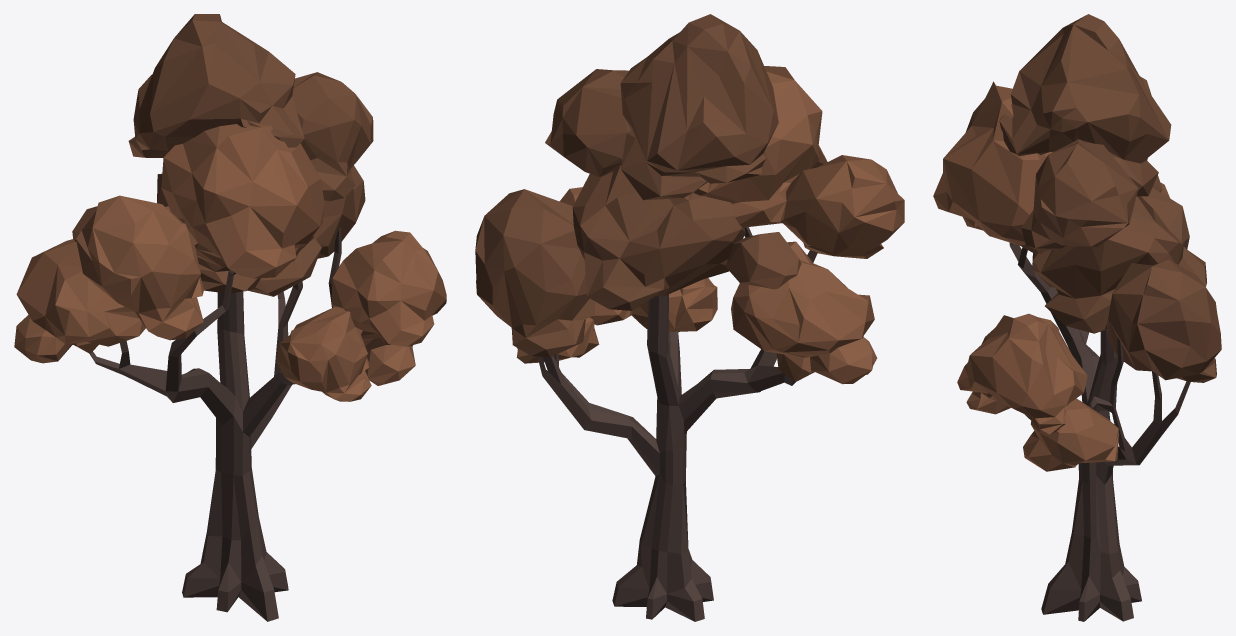
The model's file is SM_Env_Tree_02.fbx.
The picture shows the model from 3 angles, left to right: view 1: azimuth 30°, elevation 25°; view 2: azimuth 150°, elevation 25°; view 3: azimuth 270°, elevation 25°; orthographic projection. The views are drawn at different scales.
Visible parts, largest first — view 1: SM_Env_Tree_02; view 2: SM_Env_Tree_02; view 3: SM_Env_Tree_02.
Part boxes in pixels (bbox=[...]): SM_Env_Tree_02: bbox=[14, 14, 446, 621]; SM_Env_Tree_02: bbox=[475, 14, 904, 621]; SM_Env_Tree_02: bbox=[933, 14, 1221, 621].
Size of the model in its own units: 919 by 1365 by 625.
1 material, 1 textured.
